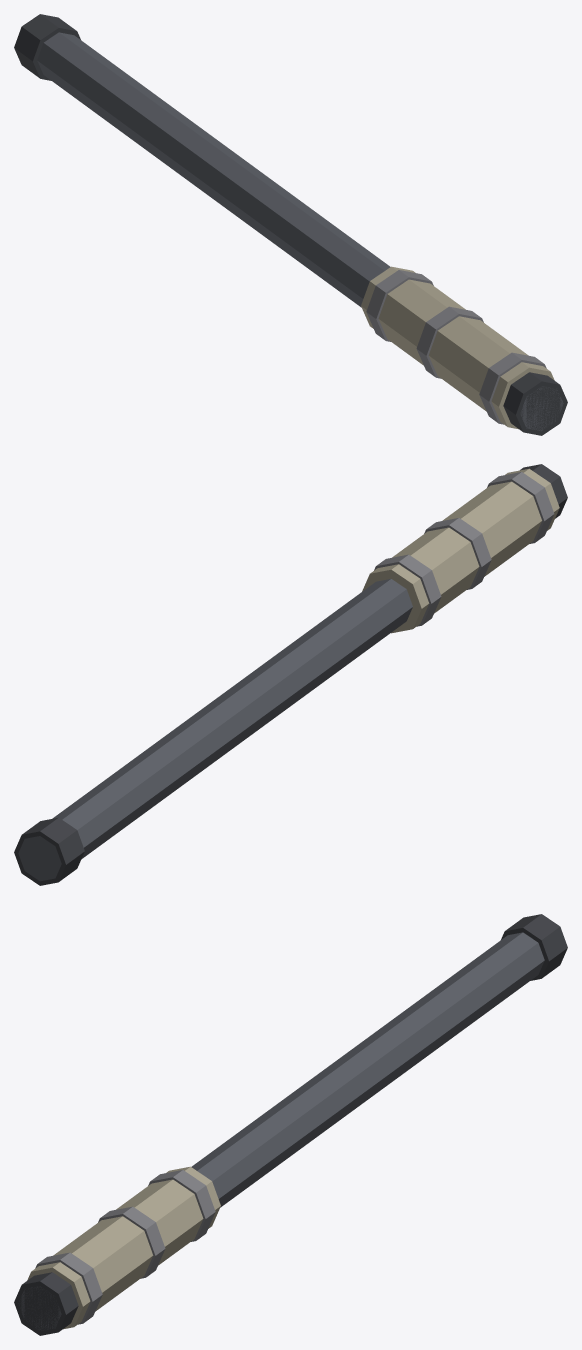
Rendered from pipe_grip_w0.glb.
3 renders of one model, top to bottom at view 1: azimuth 30°, elevation 25°; view 2: azimuth 150°, elevation 25°; view 3: azimuth 330°, elevation 25°, orthographic.
Visible parts, largest first — view 1: pipe_grip_w0; view 2: pipe_grip_w0; view 3: pipe_grip_w0.
Part boxes in pixels (<box>): pipe_grip_w0: <box>14,14,567,435</box>; pipe_grip_w0: <box>14,464,567,885</box>; pipe_grip_w0: <box>14,914,567,1335</box>.
Size of the model in its own units: 0.06 by 0.06 by 0.8.
